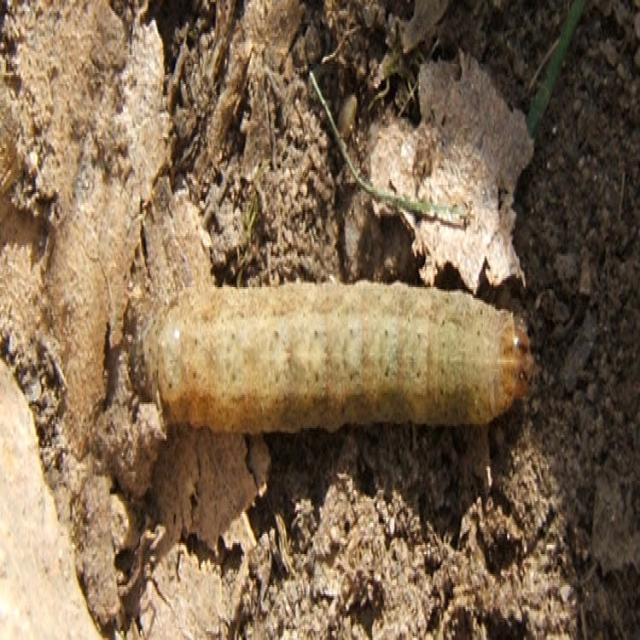Cutworm: (160, 291, 526, 433)
